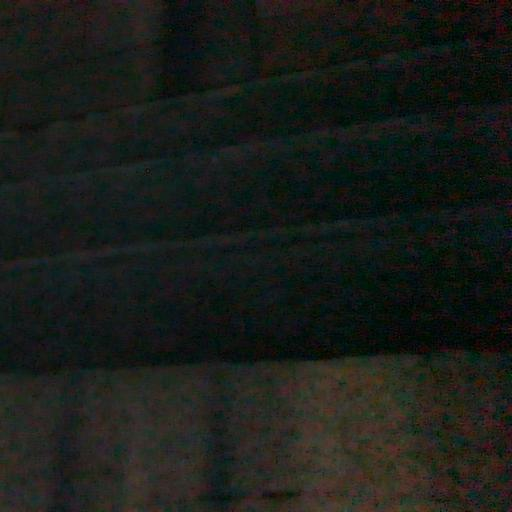stairs: (0, 42, 511, 369)
